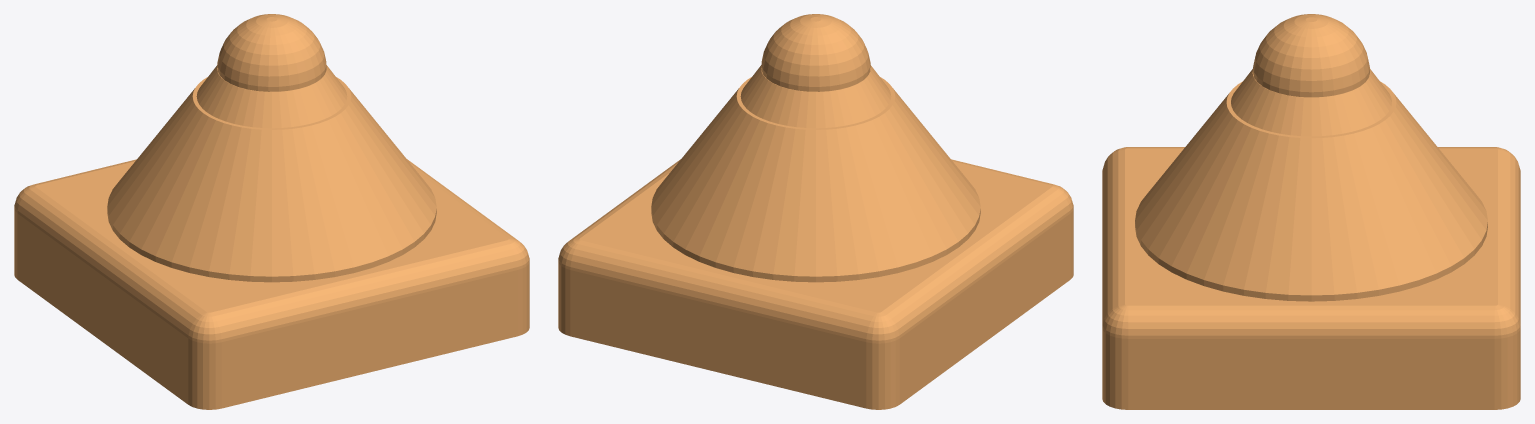
File: glow-capsule.glb
The picture shows the model from 3 angles, left to right: view 1: azimuth 30°, elevation 25°; view 2: azimuth 150°, elevation 25°; view 3: azimuth 270°, elevation 25°; orthographic projection. The views are drawn at different scales.
Parts seen in each view (by area): view 1: glow-capsule; view 2: glow-capsule; view 3: glow-capsule.
Part boxes in pixels (x1,y1,x2,y2): glow-capsule: [14, 14, 529, 409]; glow-capsule: [558, 14, 1073, 409]; glow-capsule: [1102, 14, 1520, 409].
Size of the model in its own units: 0.032 by 0.0255 by 0.032.
